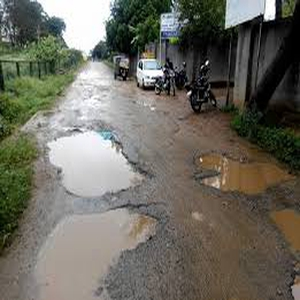pothole: (34, 206, 161, 300), (45, 127, 154, 195), (193, 145, 298, 199)
